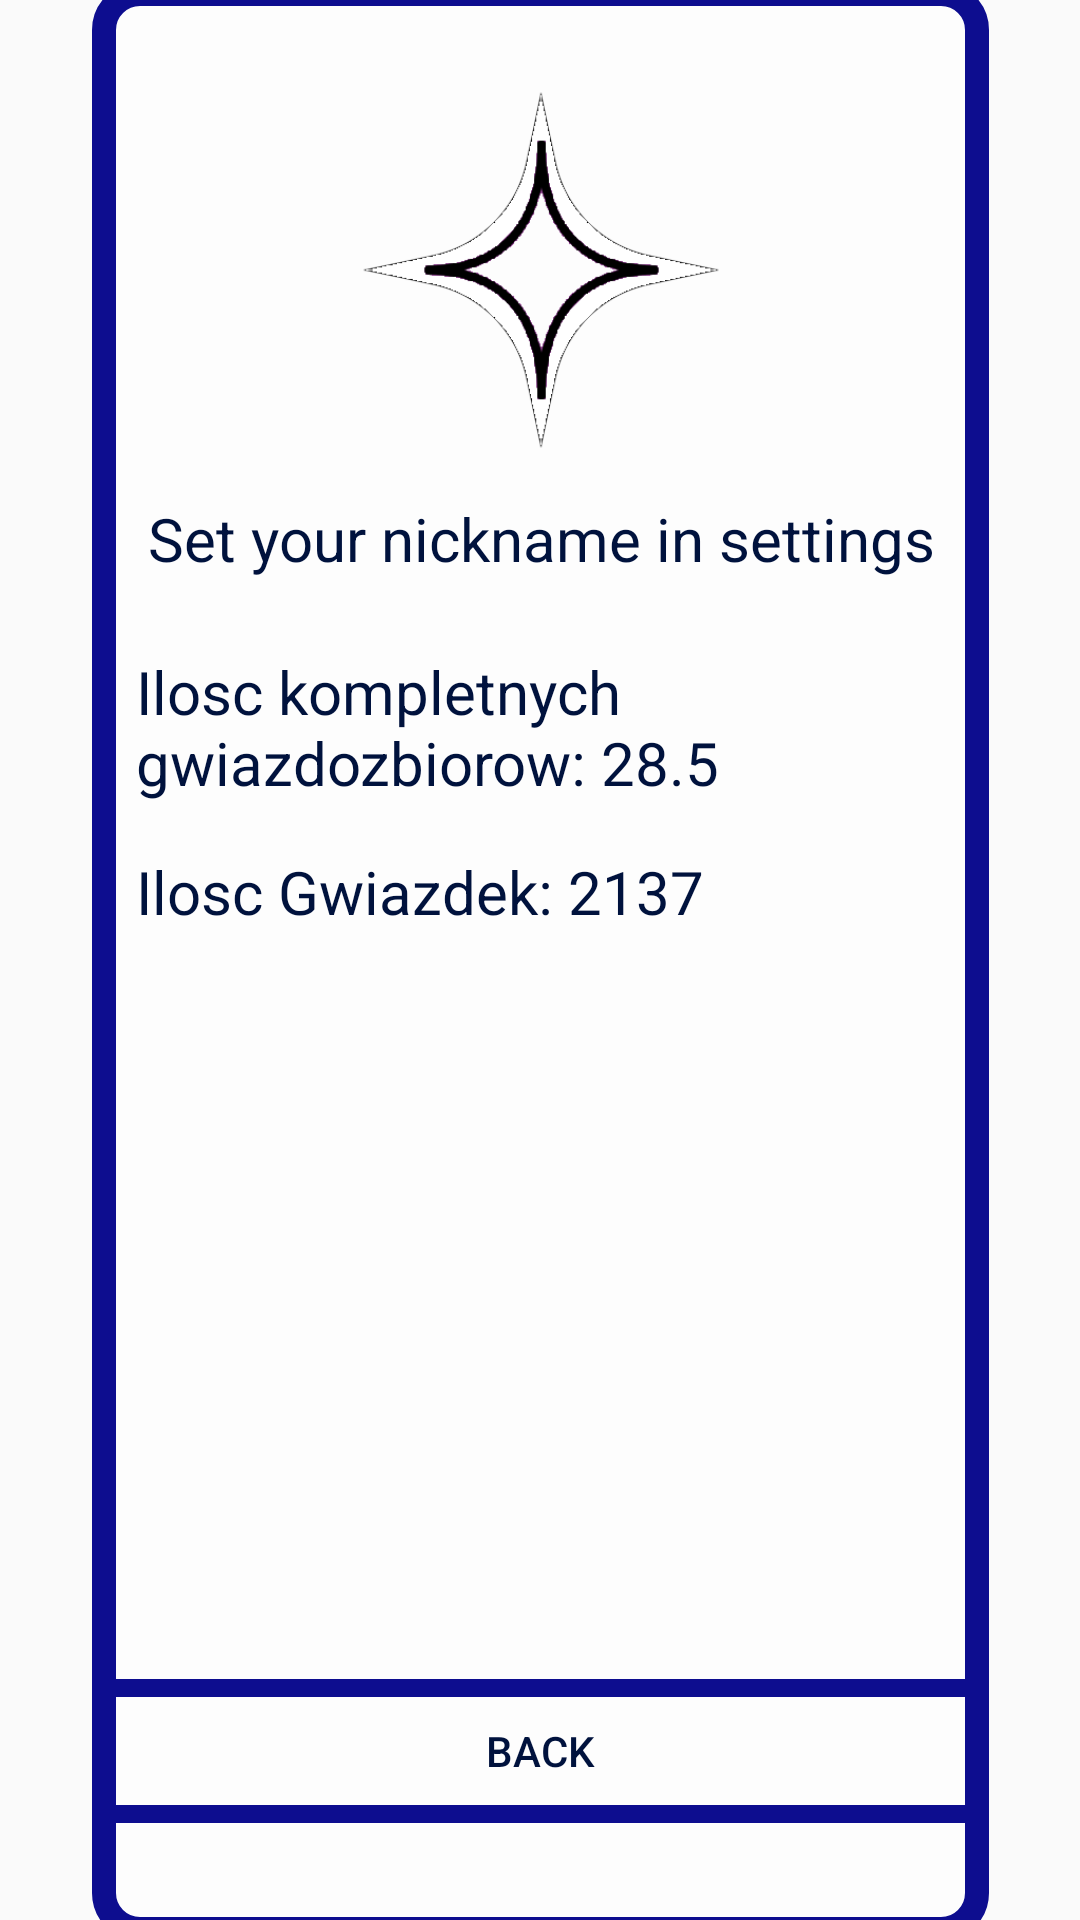

Named icons in this screenshot (1080 x 1920) and their bounding boxes, {"left": x1, "top": y1, "right": x2, "bottom": y2}:
starico: {"left": 364, "top": 93, "right": 719, "bottom": 447}
